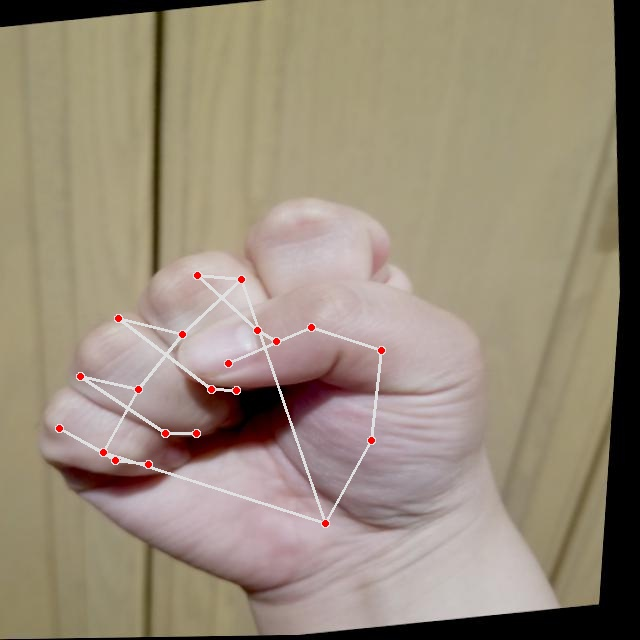S: (0, 171, 544, 618)
